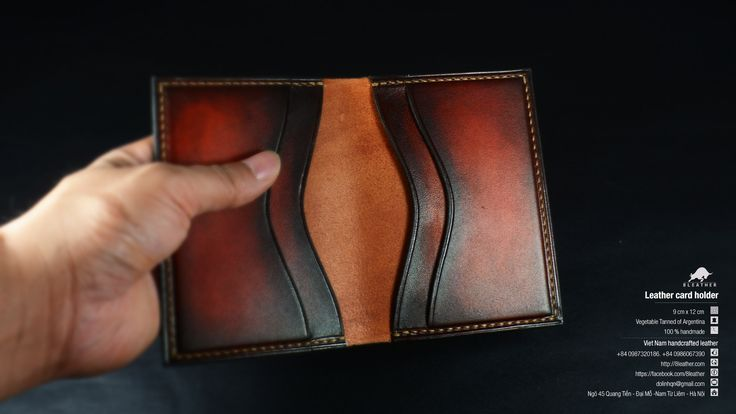monedero: (148, 58, 566, 371)
